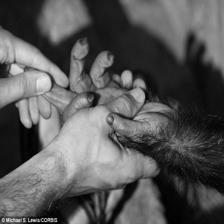Hand: (23, 97, 173, 204), (41, 33, 183, 132), (2, 12, 74, 114)
